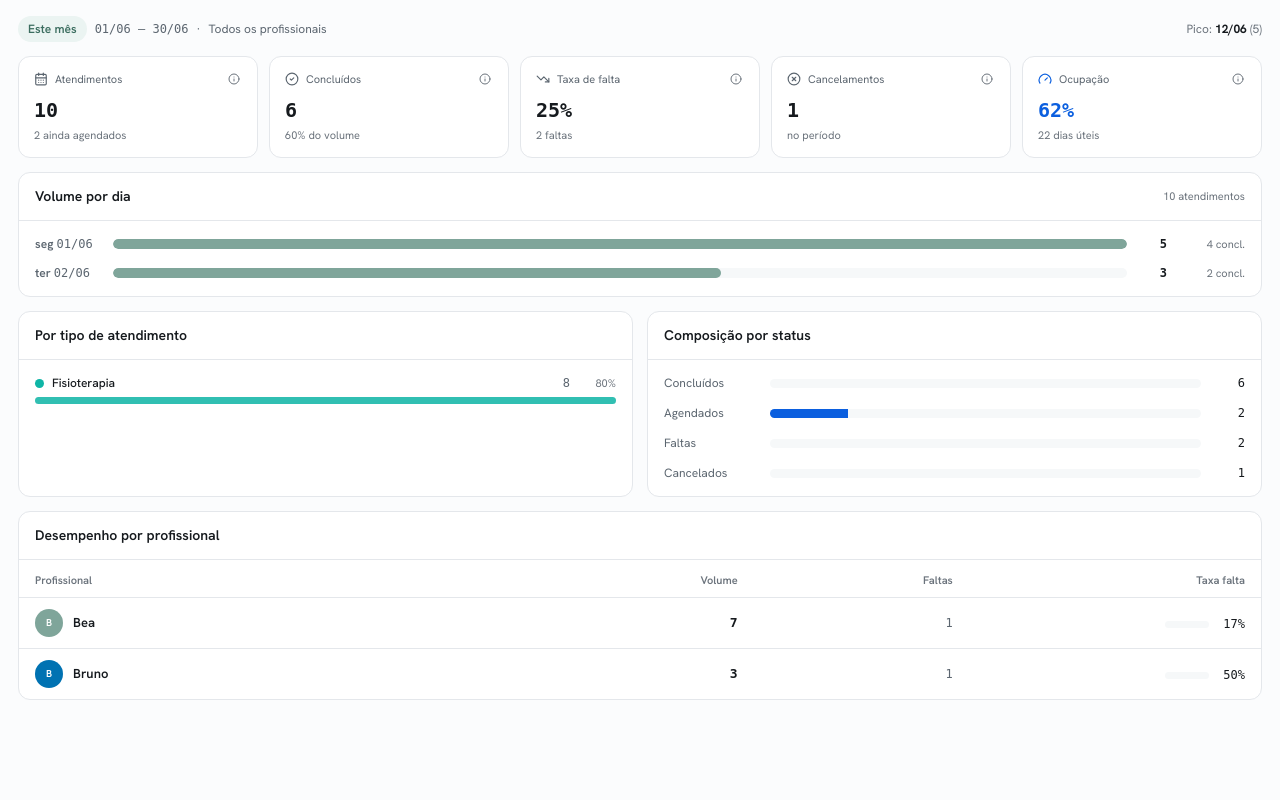
Test: Relatórios — render › a fórmula de cada KPI está na tela › o diálogo fecha, e só um abre por vez
Click the button named "como atendimentos é calculad": click(234, 79) top-left (222, 67), bottom-right (246, 91)
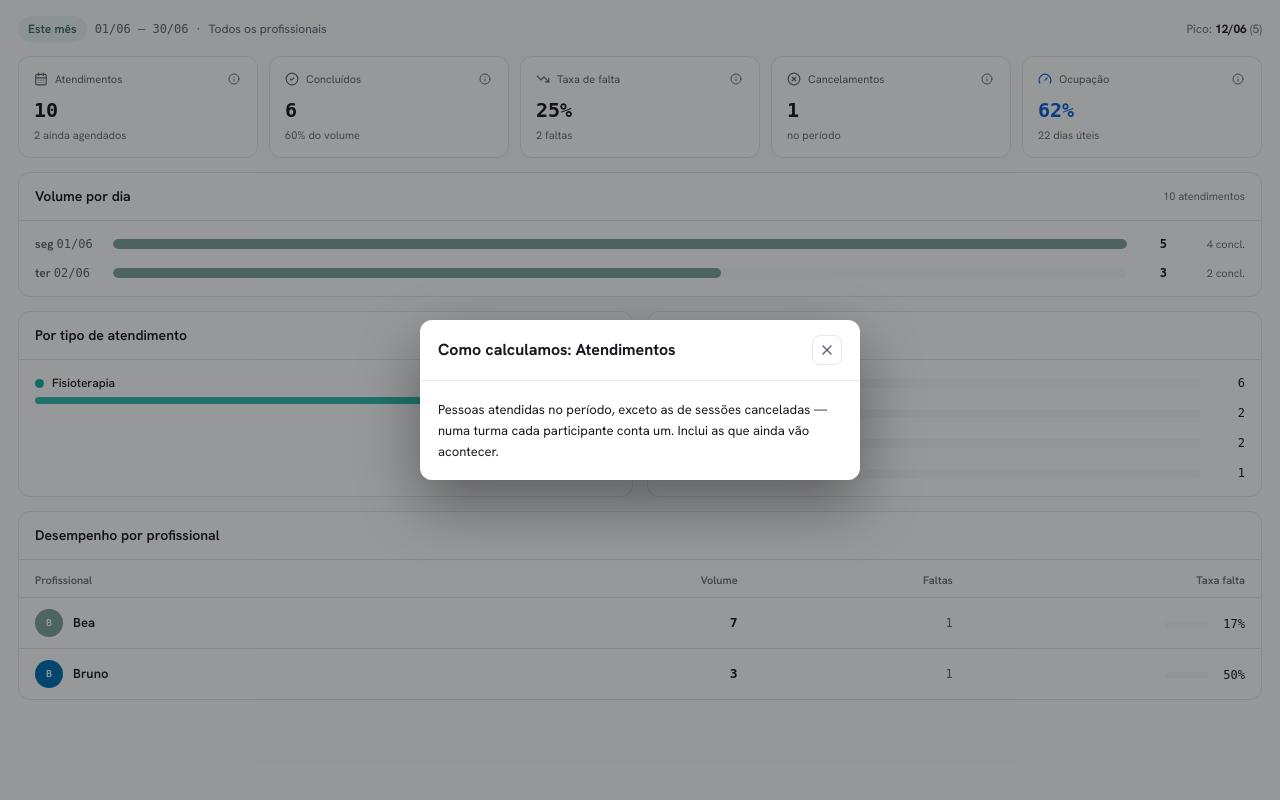
Expected: the dialog shows "cada participante conta um", top-left (438, 401), bottom-right (827, 460)
Click the button named "Fechar": click(827, 350) top-left (812, 335), bottom-right (842, 365)
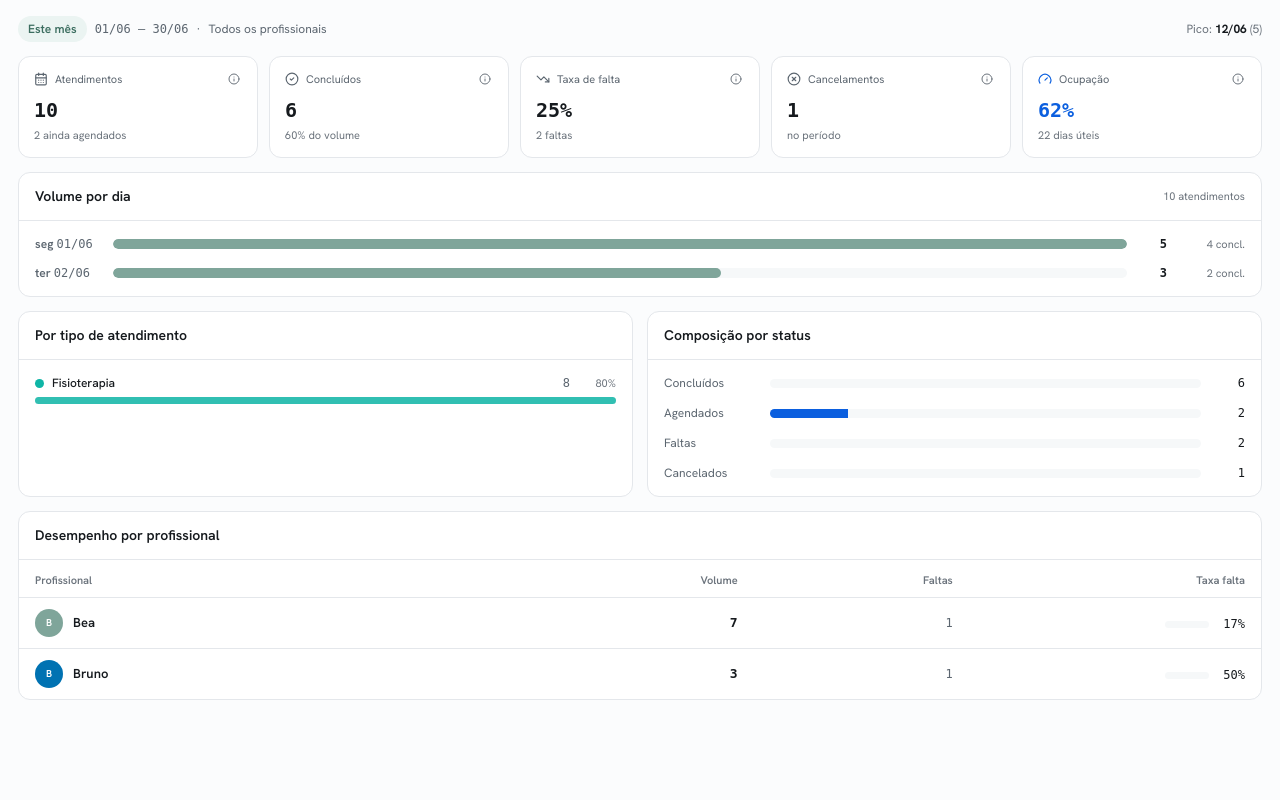
Expected: the dialog is gone
